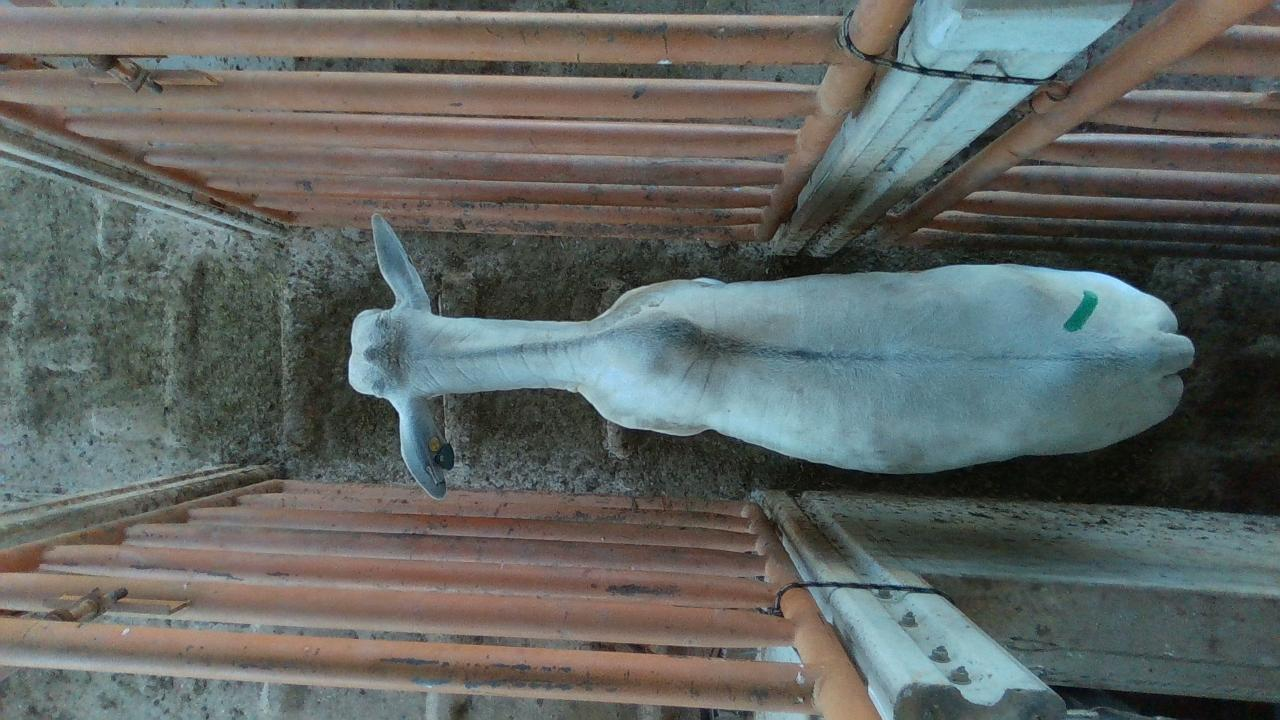cattle: (345, 211, 1195, 499)
